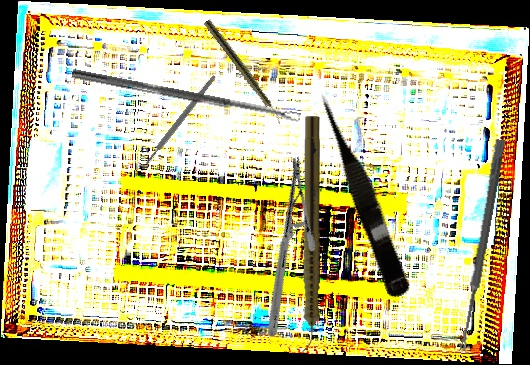Handpiece: (202, 18, 286, 126), (300, 116, 320, 352)
Micro Scissor: (312, 87, 417, 300)
Needle Holder: (211, 155, 358, 338)
Scalpel Handle: (143, 74, 218, 166)
Surgical Spoon: (71, 68, 301, 124), (457, 138, 506, 353)
